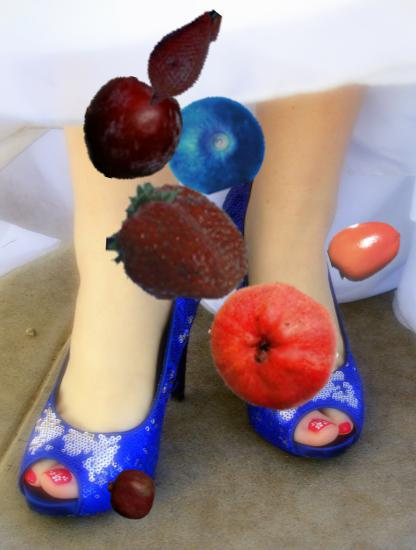Huckleberry: (162, 93, 266, 197)
Kaki: (329, 213, 404, 288)
Pear: (207, 279, 340, 412)
Plum: (79, 78, 184, 183)
Pomegranate: (105, 468, 157, 520)
Salak: (122, 0, 239, 117)
Strawberry: (106, 169, 250, 313)
